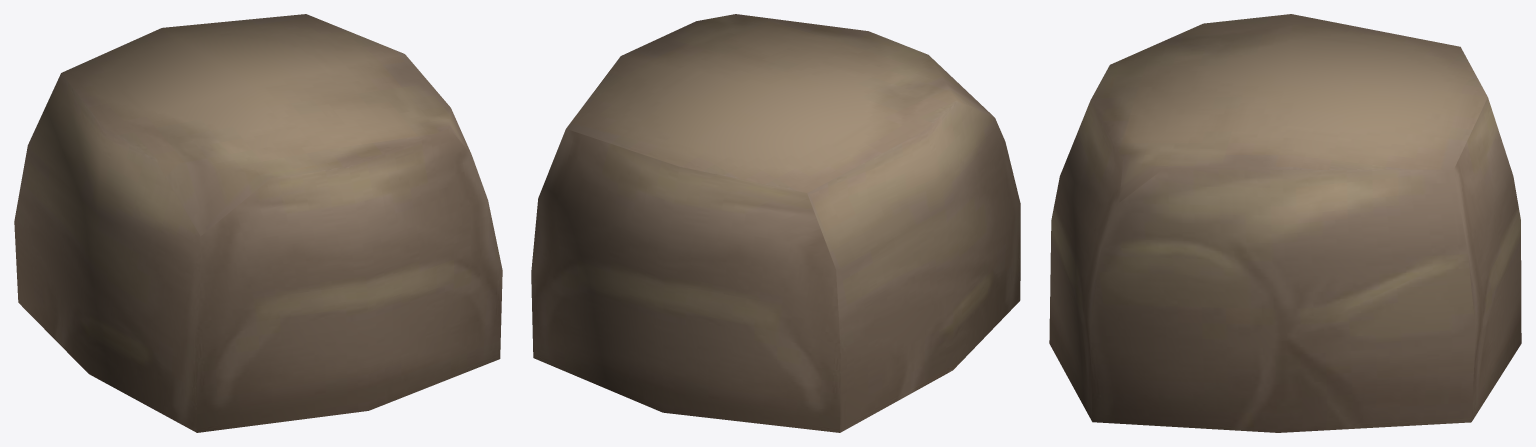
The model's file is rock_3.gltf.
3 renders of one model, left to right at view 1: azimuth 30°, elevation 25°; view 2: azimuth 150°, elevation 25°; view 3: azimuth 270°, elevation 25°, orthographic. The views are drawn at different scales.
Parts seen in each view (by area): view 1: Rock3; view 2: Rock3; view 3: Rock3.
Part boxes in pixels (x1=…): Rock3: x1=14, y1=14, x2=502, y2=432; Rock3: x1=531, y1=14, x2=1020, y2=432; Rock3: x1=1049, y1=14, x2=1521, y2=432.
Size of what is drawn, in the model's own units: 1.18 by 0.7881 by 1.31.
Materials: 1 (1 with a texture image).
